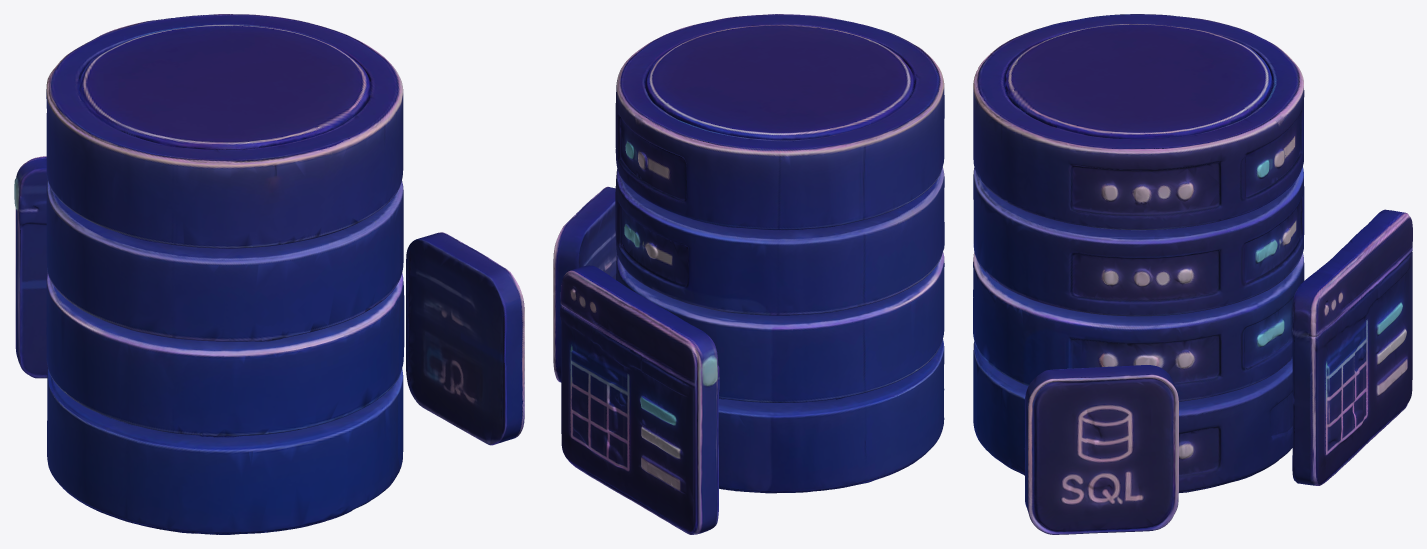
Rendered from databases.glb.
3 views of the same model, side by side, from view 1: azimuth 30°, elevation 25°; view 2: azimuth 150°, elevation 25°; view 3: azimuth 270°, elevation 25° (orthographic). The views are drawn at different scales.
Visible parts, largest first — view 1: tripo_node_c38c3972-59fb-4135-a676-f893864950a0; view 2: tripo_node_c38c3972-59fb-4135-a676-f893864950a0; view 3: tripo_node_c38c3972-59fb-4135-a676-f893864950a0.
Part boxes in pixels (x1,y1,x2,y2): tripo_node_c38c3972-59fb-4135-a676-f893864950a0: (14,14,524,534); tripo_node_c38c3972-59fb-4135-a676-f893864950a0: (553,14,944,534); tripo_node_c38c3972-59fb-4135-a676-f893864950a0: (973,14,1412,534).
Bounding box in the file's own units: 0.9572 × 0.8806 × 1.
1 material, 1 textured.
